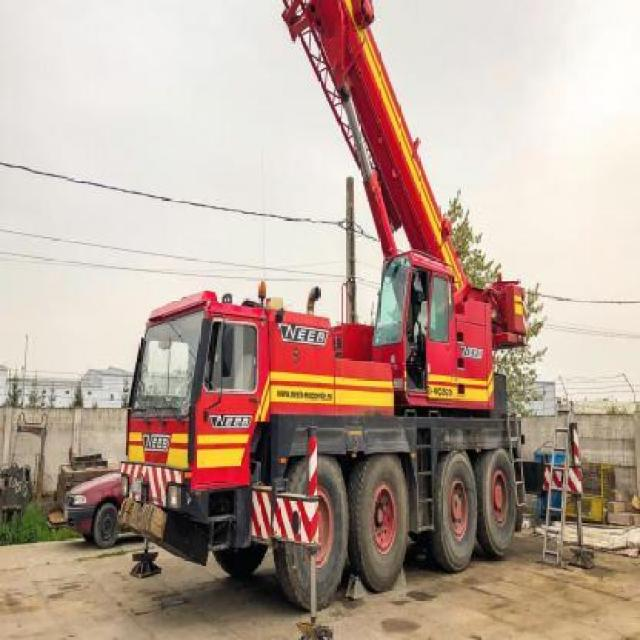Mobile Crane: (105, 0, 589, 623)
